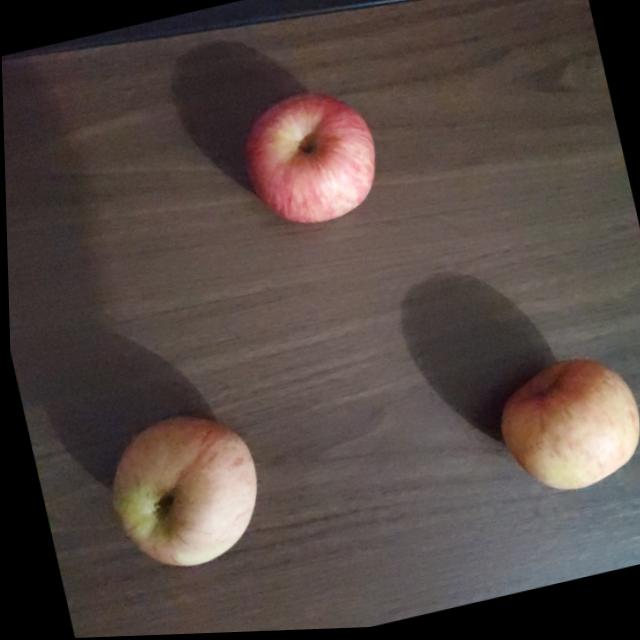apple: (98, 403, 277, 586), (483, 349, 640, 505), (231, 79, 383, 235)
